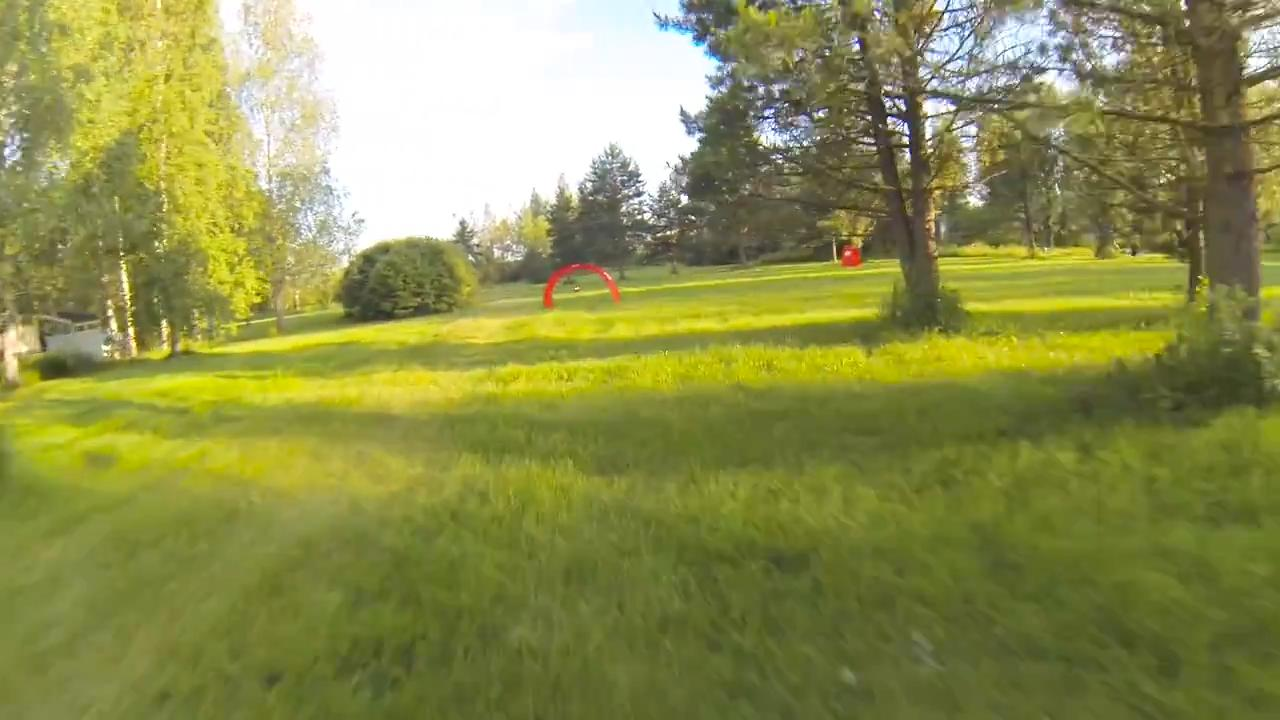gate: (541, 261, 623, 309)
